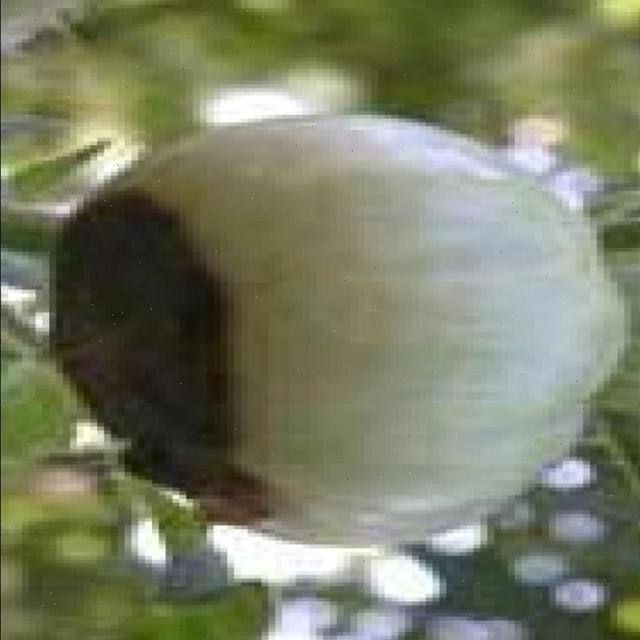Blossom End Rot Fruit: (37, 128, 188, 357)
